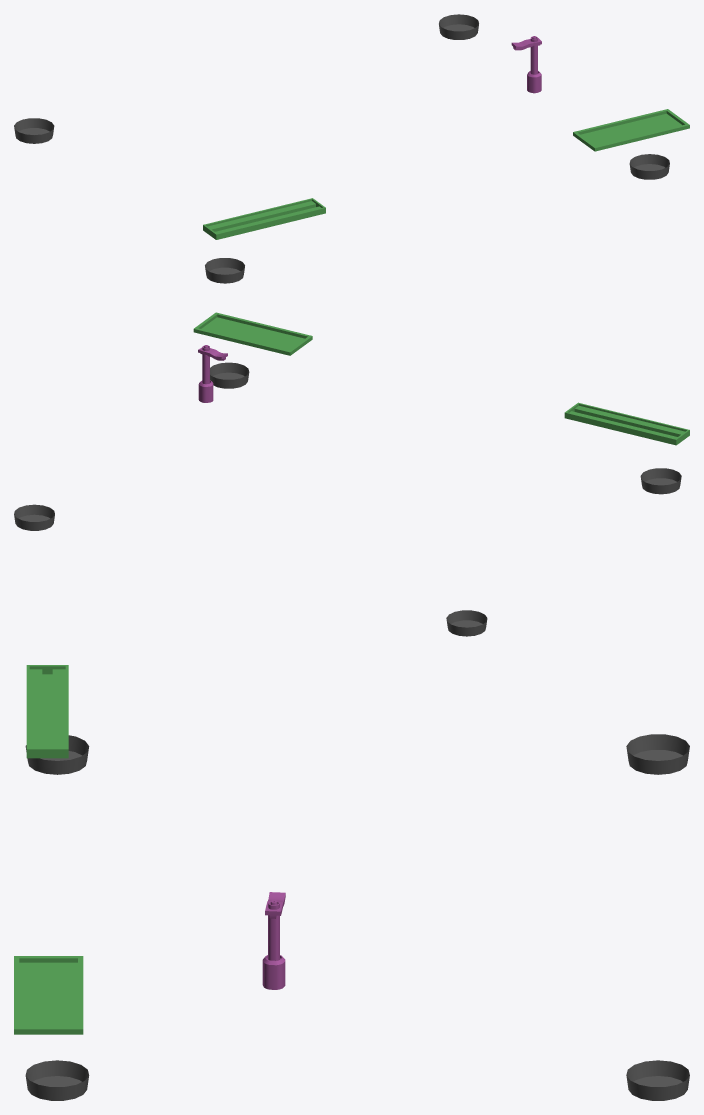
Rendered from Extras.fbx.
3 views of the same model, one above another, from view 1: azimuth 30°, elevation 25°; view 2: azimuth 150°, elevation 25°; view 3: azimuth 270°, elevation 25° (orthographic). The views are drawn at different scales.
Visible parts, largest first — view 1: Extras; view 2: Extras; view 3: Extras.
Part boxes in pixels (bbox=[...]): Extras: bbox=[14, 14, 689, 283]; Extras: bbox=[14, 312, 689, 636]; Extras: bbox=[14, 665, 689, 1100].
Bounding box in the file's own units: 98.53 × 19.26 × 78.01.
